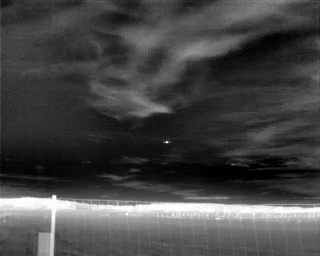AIRPLANE: (163, 138, 170, 145)
